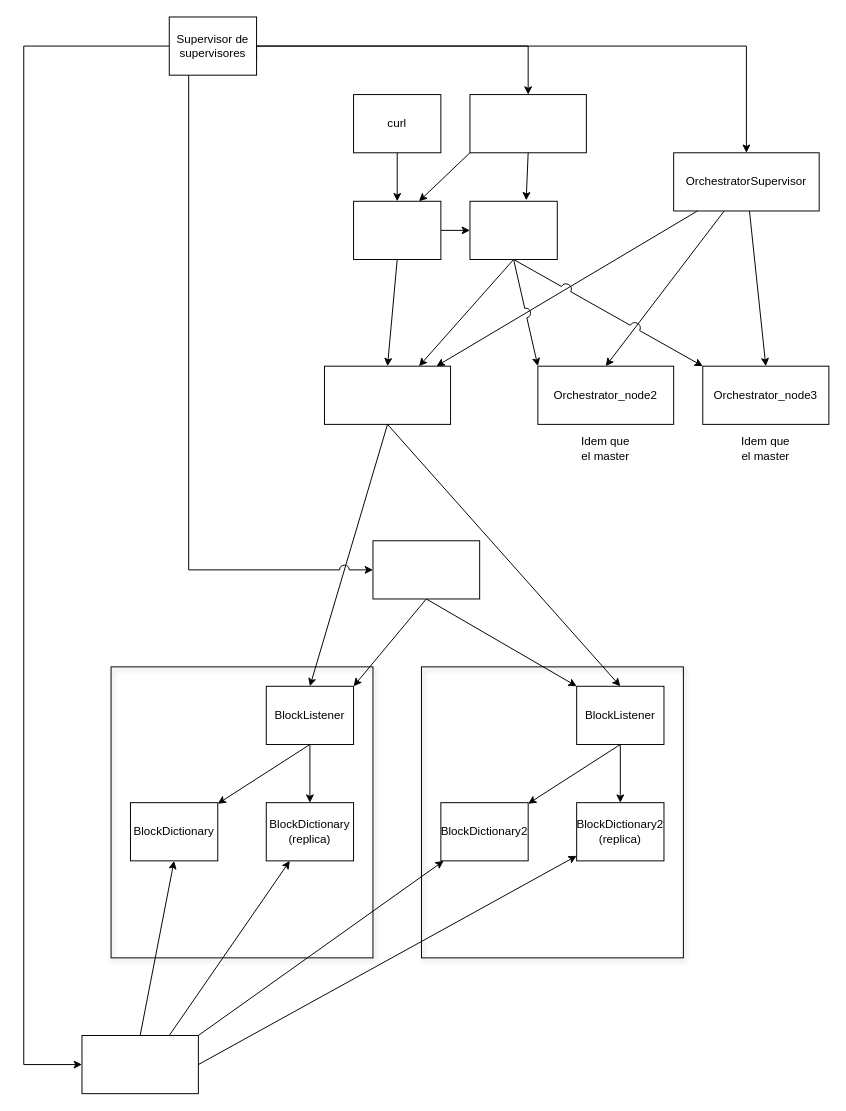
Some shapes in this 846 by 1111 pixel diagram are drawn without their labels. Here are the shapes that lost their labels. From the top down, the centre of each, then its label:
At (527,123): "ClientSupervisor".
At (397,229): "ClientHandler".
At (513,229): "GetMaster".
At (387,394): "Orchestrator_node1 (master)".
At (426,569): "BlockSupervisor".
At (139,1064): "DictionarySupervisor".
